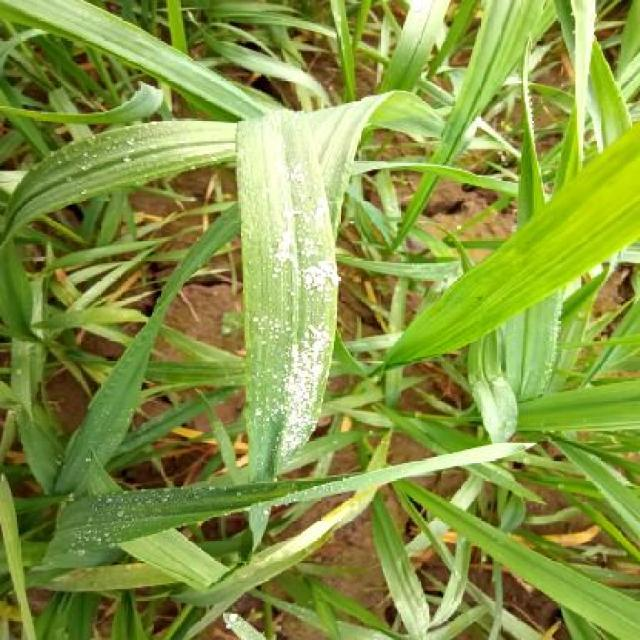Powdery Mildew: (235, 117, 333, 469)
